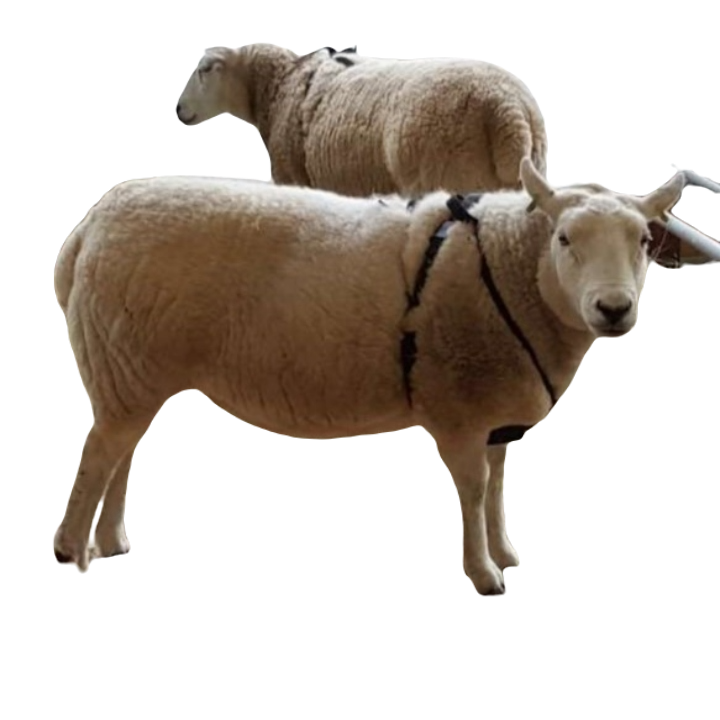Sheep: (45, 157, 719, 600), (164, 45, 552, 181)
